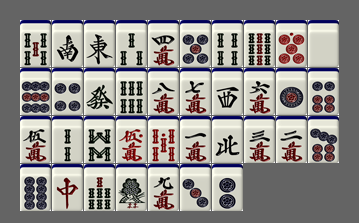0m: (116, 116, 147, 163)
0p: (276, 20, 307, 67)
0s: (148, 116, 179, 163)
1m: (180, 116, 211, 163)
1p: (276, 68, 307, 115)
1s: (116, 164, 147, 211)
1z: (84, 20, 115, 67)
2m: (276, 116, 307, 163)
2p: (212, 164, 243, 211)
2s: (52, 116, 83, 163)
2z: (52, 20, 83, 67)
3m: (244, 116, 275, 163)
3p: (180, 164, 211, 211)
3s: (116, 20, 147, 67)
3z: (212, 68, 243, 115)
4m: (148, 20, 179, 67)
4p: (52, 68, 83, 115)
4s: (212, 20, 243, 67)
4z: (212, 116, 243, 163)
5m: (20, 116, 51, 163)
5p: (180, 20, 211, 67)
5s: (20, 20, 51, 67)
5z: (308, 20, 339, 67)
6m: (244, 68, 275, 115)
6p: (308, 68, 339, 115)
6s: (116, 68, 147, 115)
6z: (84, 68, 115, 115)
7m: (180, 68, 211, 115)
7p: (308, 116, 339, 163)
7s: (84, 164, 115, 211)
7z: (52, 164, 83, 211)
8m: (148, 68, 179, 115)
8p: (20, 164, 51, 211)
8s: (84, 116, 115, 163)
9m: (148, 164, 179, 211)
9p: (20, 68, 51, 115)
9s: (244, 20, 275, 67)
